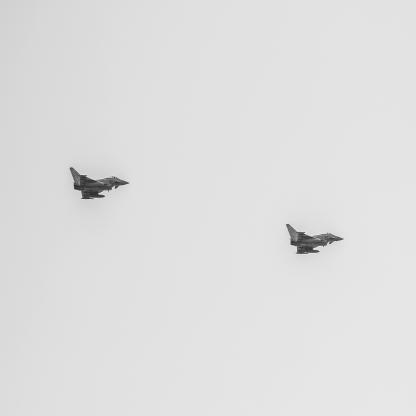EF2000: (70, 168, 131, 201), (287, 225, 345, 255)
